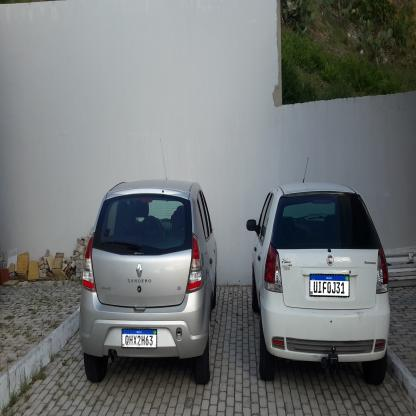PlacaM: (310, 274, 350, 297), (122, 328, 157, 349)
